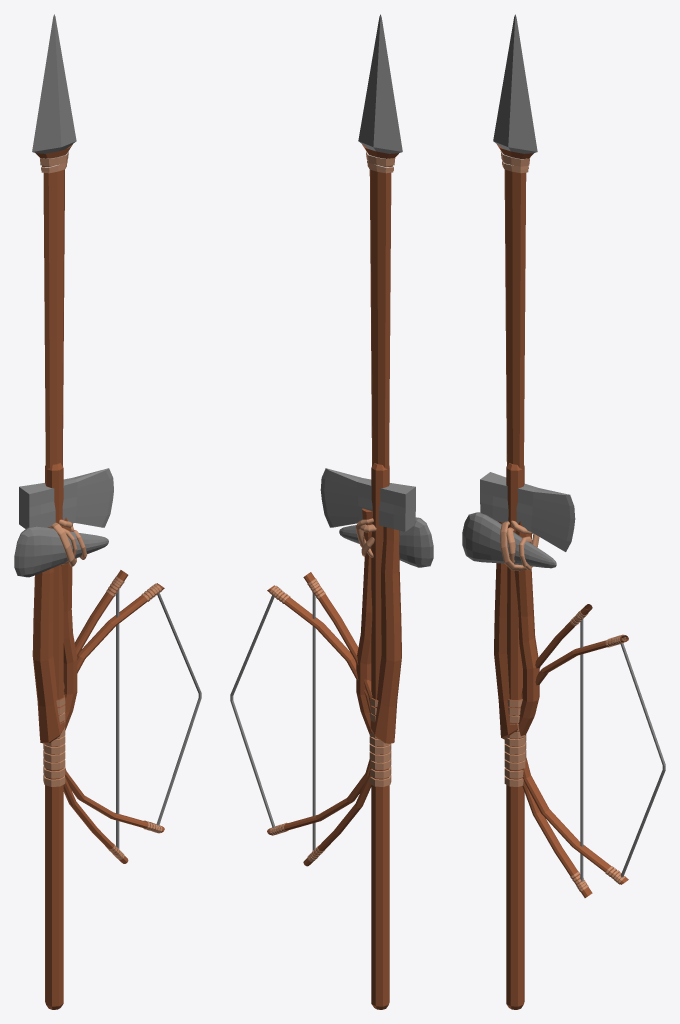
File: weapons.fbx
3 views of the same model, side by side, from view 1: azimuth 30°, elevation 25°; view 2: azimuth 150°, elevation 25°; view 3: azimuth 330°, elevation 25° (orthographic).
Parts seen in each view (by area): view 1: Circle.001, Plane, Cylinder.001, Cylinder, Plane.003, Plane.001; view 2: Circle.001, Plane, Cylinder.001, Cylinder, Plane.003, Plane.001; view 3: Circle.001, Cylinder.001, Plane, Cylinder, Plane.003, Plane.001.
Boxes of the visible parts, <box> form: Circle.001: <box>32,14,76,485</box>; Plane: <box>19,468,113,743</box>; Cylinder.001: <box>43,463,65,1009</box>; Cylinder: <box>14,517,108,730</box>; Plane.003: <box>63,583,201,833</box>; Plane.001: <box>63,570,128,863</box>; Circle.001: <box>358,14,402,486</box>; Plane: <box>320,468,415,743</box>; Cylinder.001: <box>369,463,391,1009</box>; Cylinder: <box>339,508,433,736</box>; Plane.003: <box>230,585,372,835</box>; Plane.001: <box>303,572,373,866</box>; Circle.001: <box>493,14,537,486</box>; Cylinder.001: <box>504,463,526,1009</box>; Plane: <box>480,472,575,739</box>; Cylinder: <box>462,512,556,738</box>; Plane.003: <box>521,634,665,884</box>; Plane.001: <box>521,604,592,897</box>.
Size of the model in its own units: 128 by 624 by 23.76.
